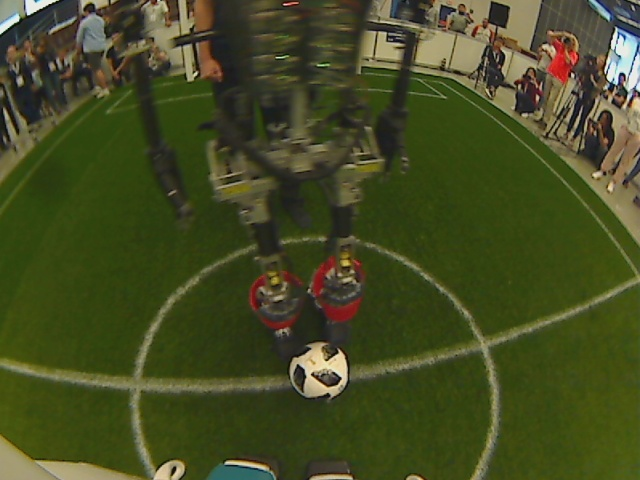ball: (289, 348, 351, 402)
goalpost: (175, 68, 202, 91)
robot: (261, 305, 357, 360)
